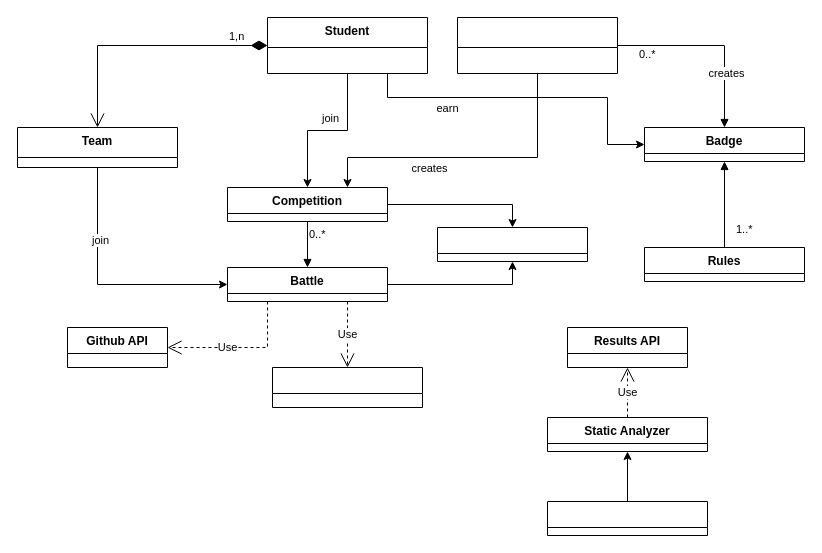
The diagram is 822 pixels wide and 553 high, and some of its shapes have lost their labels. The centre of each missing label's shape, as x and y in pixels:
"Educator" belongs at (537,45).
"NotificationHandler" belongs at (512,244).
"SA_Configuration API" belongs at (347,387).
"SA_Server" belongs at (627,518).
